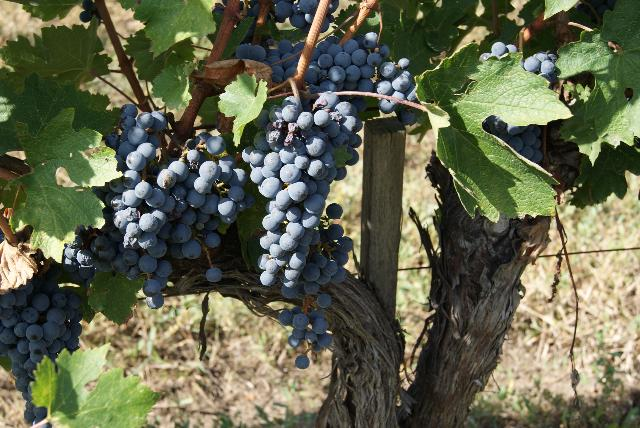grapes: (64, 105, 252, 280), (242, 92, 361, 288), (0, 275, 82, 425), (305, 31, 418, 101), (235, 40, 305, 84), (482, 115, 544, 164), (520, 51, 558, 89)
